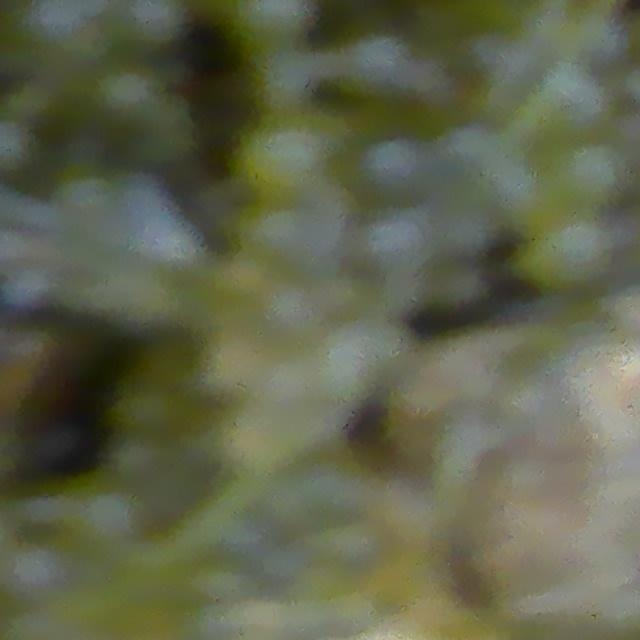SeaGrape: (237, 109, 336, 204), (525, 208, 615, 293), (311, 319, 397, 404), (549, 136, 627, 211), (70, 482, 146, 553), (112, 377, 187, 445), (253, 43, 321, 109), (2, 537, 69, 602), (257, 274, 320, 339), (363, 136, 428, 197), (236, 0, 315, 47), (118, 0, 188, 50)
